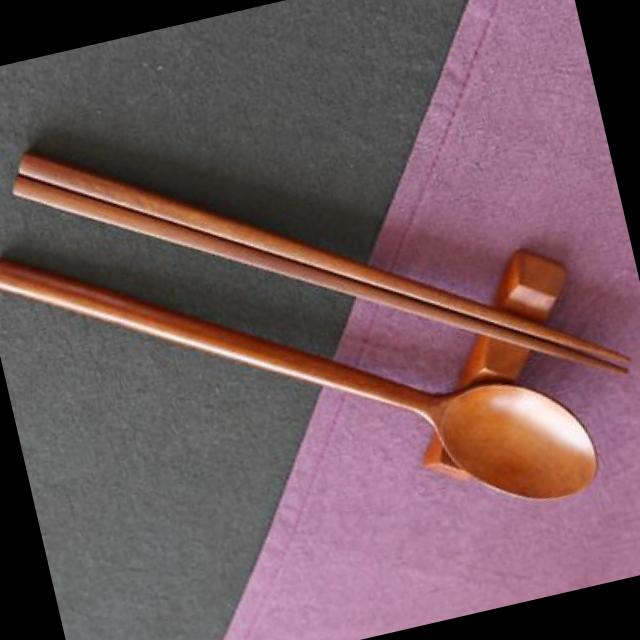spoon: (2, 251, 612, 519)
